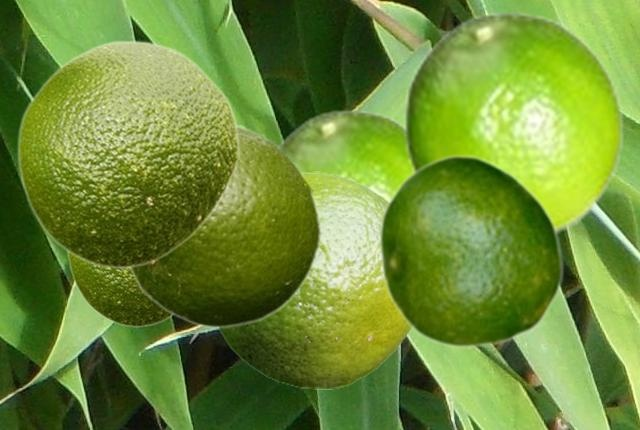calamansi: (16, 39, 239, 269), (403, 10, 624, 238), (216, 171, 412, 388), (129, 123, 321, 328), (377, 153, 564, 348), (276, 108, 410, 199), (66, 253, 171, 327)
